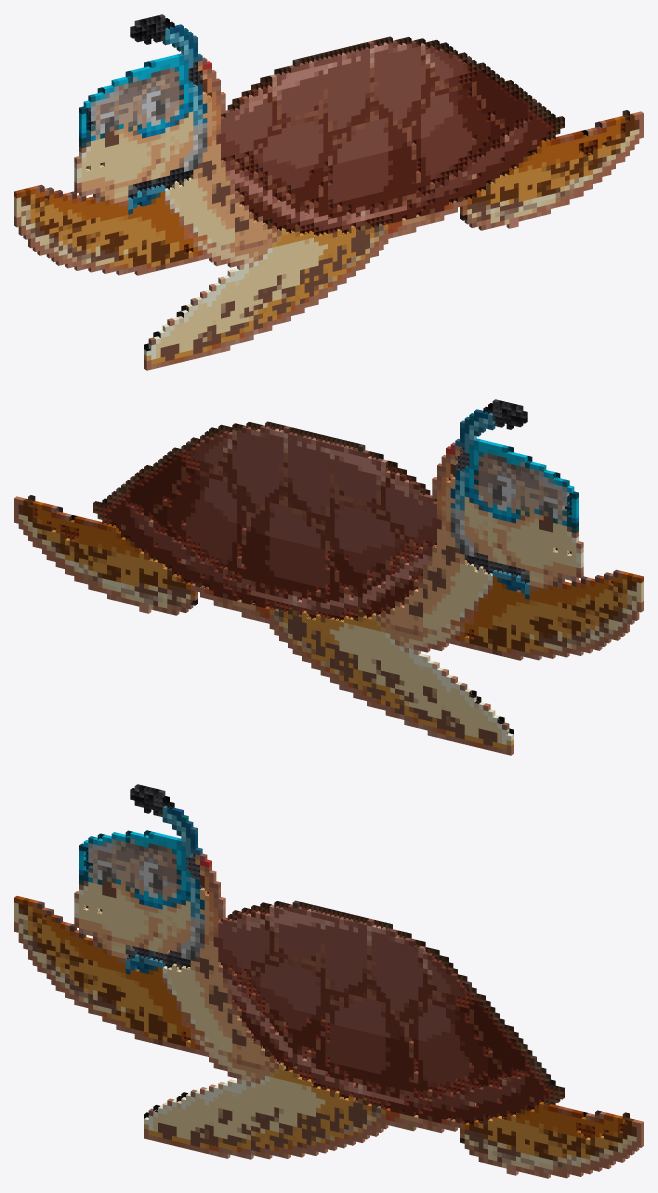
File: turt_135x72x1.obj
The picture shows the model from 3 angles, top to bottom: view 1: azimuth 30°, elevation 25°; view 2: azimuth 150°, elevation 25°; view 3: azimuth 330°, elevation 25°; orthographic projection.
Size of the model in its own units: 10.07 by 5.37 by 0.0746.
